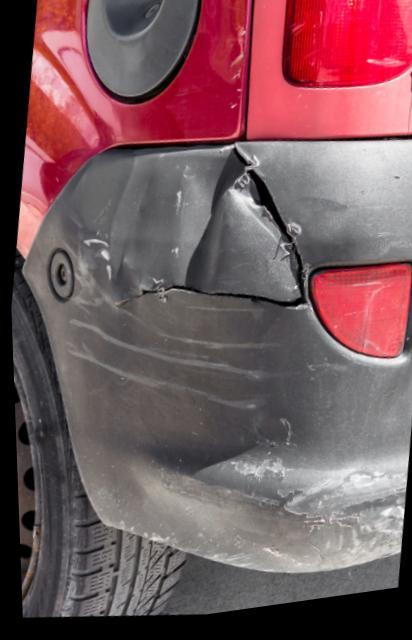crack: (113, 153, 306, 317)
scratch: (67, 231, 277, 413), (101, 459, 404, 579)
